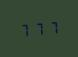seven: (18, 21, 30, 37), (32, 20, 44, 36), (45, 19, 57, 35)
